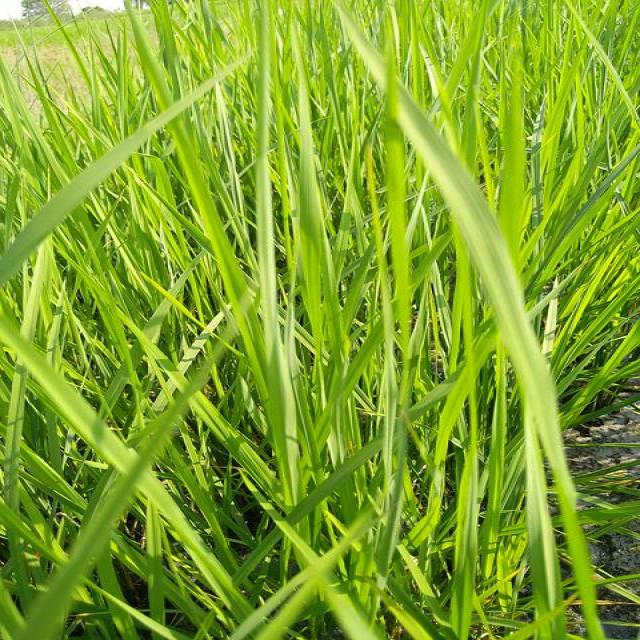Rice: (165, 125, 262, 396), (0, 311, 132, 475), (0, 127, 141, 280), (254, 126, 298, 504), (146, 473, 254, 623), (295, 93, 343, 403), (530, 395, 562, 640), (384, 67, 410, 349), (500, 32, 530, 266), (447, 438, 478, 640), (446, 221, 482, 383), (376, 290, 396, 484)
